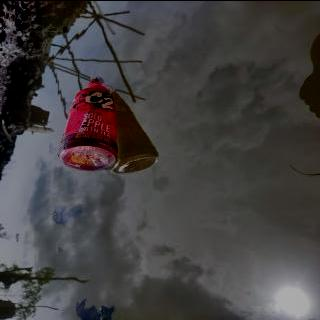bottle: (54, 74, 124, 172)
